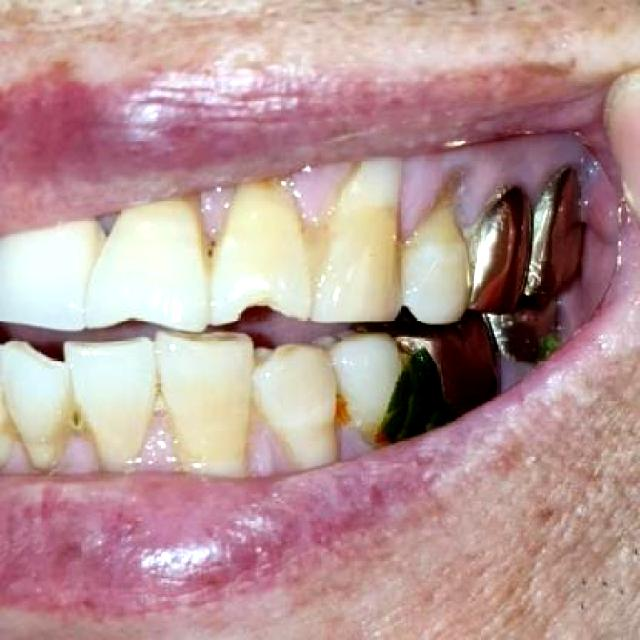Plaque: (404, 137, 574, 235), (297, 168, 349, 226), (249, 411, 295, 475), (136, 407, 175, 467), (199, 192, 232, 246), (56, 430, 97, 473), (338, 408, 370, 454), (4, 441, 35, 471)
